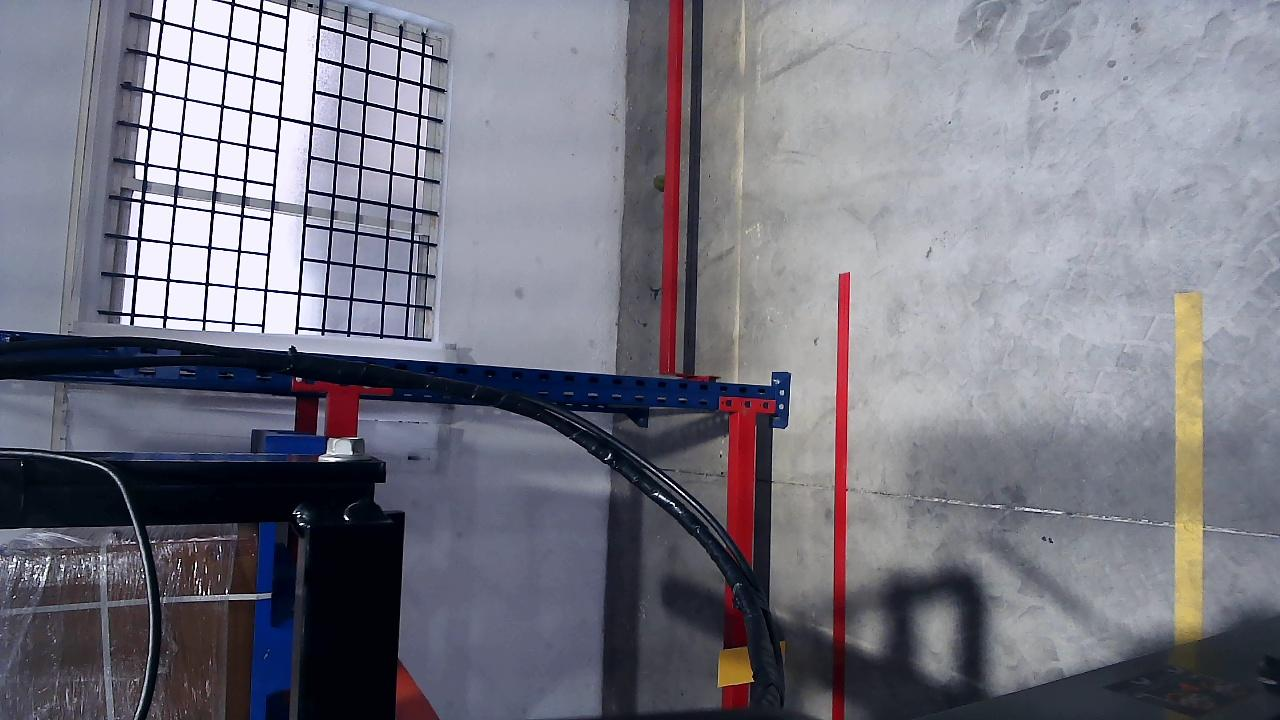h_rack: (725, 414, 753, 707)
orange_strip: (719, 645, 754, 697)
red_line: (832, 273, 849, 720)
yellow_line: (1172, 292, 1204, 641)
